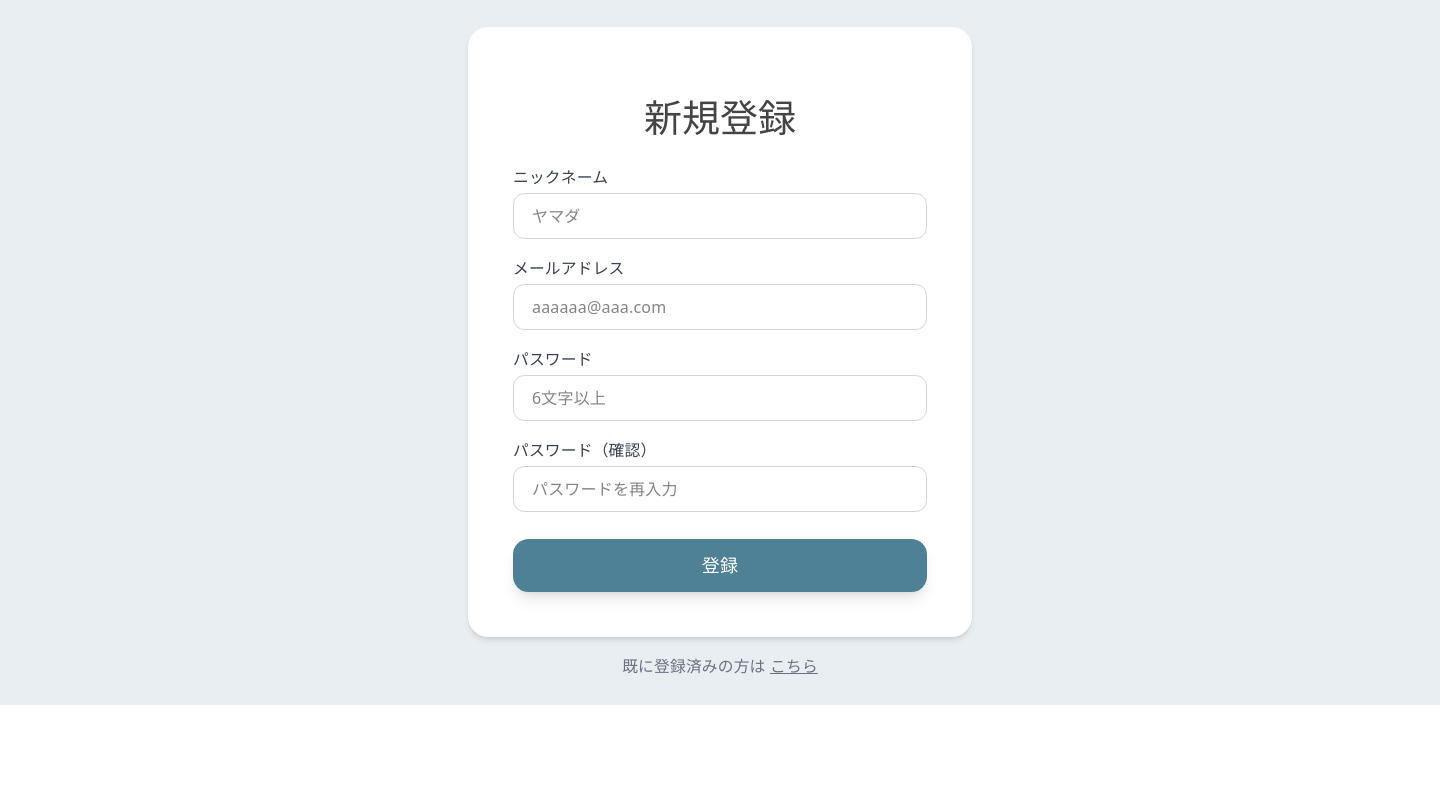
it: Register › パスワードが一致しない場合エラーメッセージが表示される
The width and height of the screenshot is (1440, 810).
Type "テスト太郎" into the field with placeholder "ヤマダ" at (720, 216), box [513, 193, 927, 239]
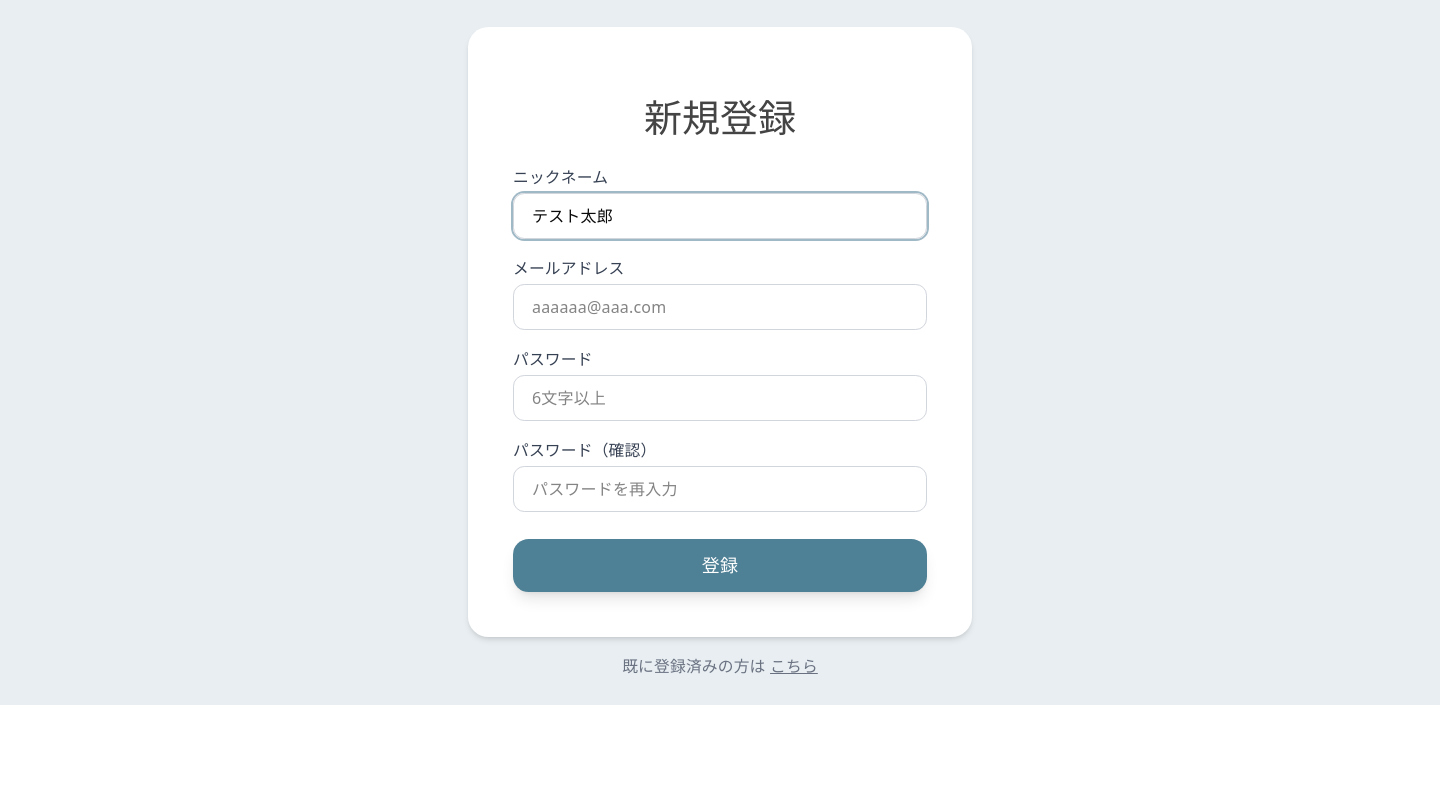
Type "test@example.com" into the field with placeholder "aaaaaa@aaa.com" at (720, 307), box [513, 284, 927, 330]
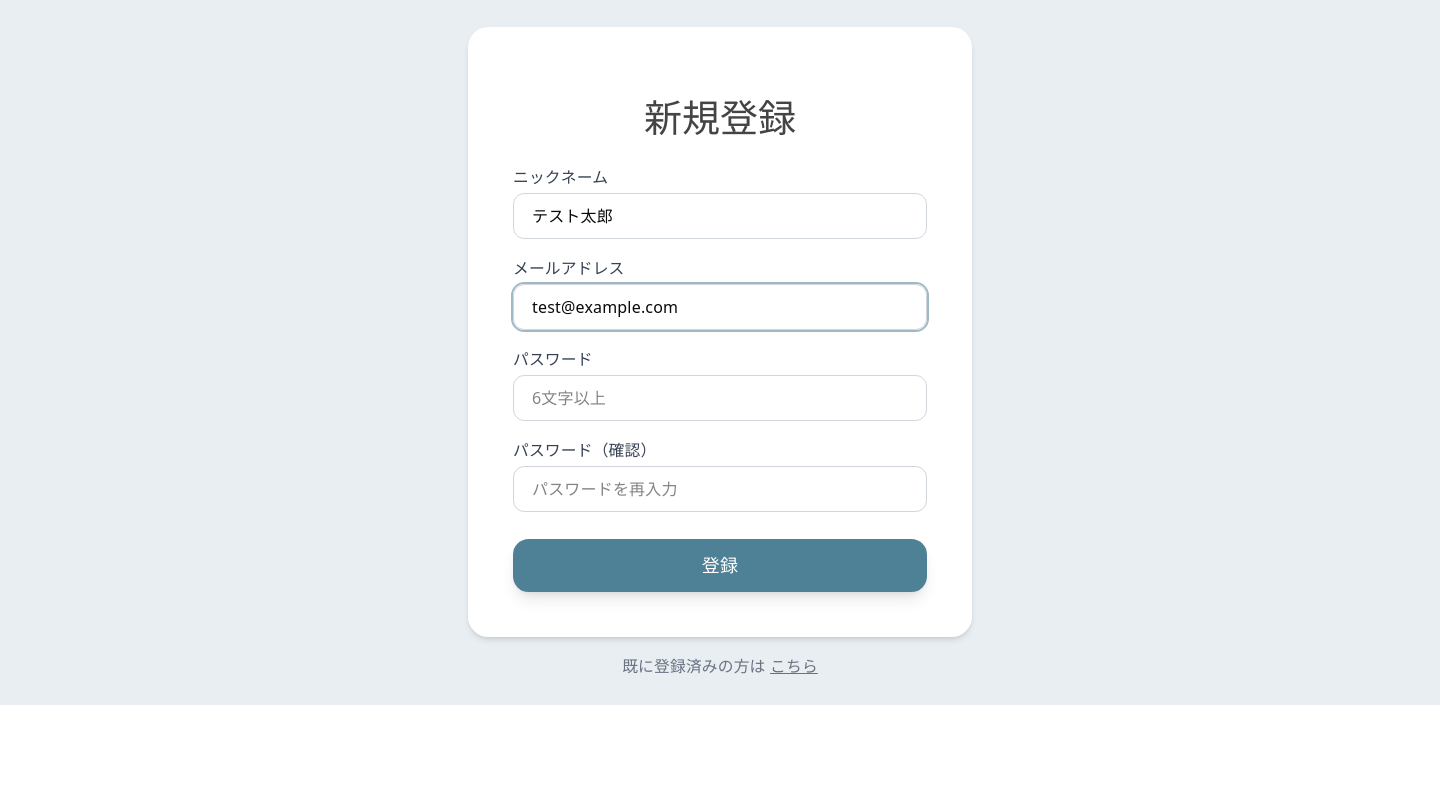
Type "abcdef" into the password field with placeholder "6文字以上" at (720, 398), box [513, 375, 927, 421]
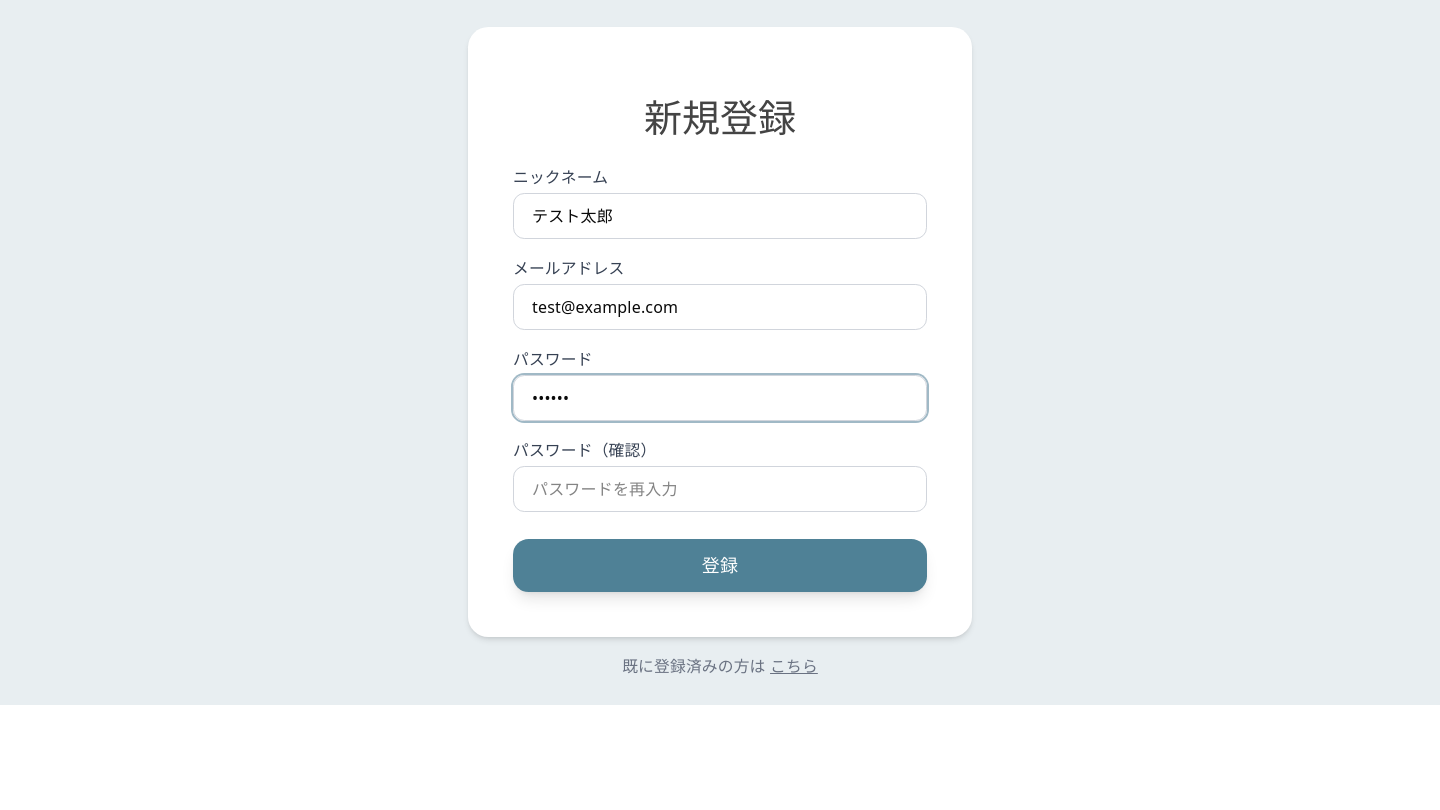
Type "abcdeg" into the password field with placeholder "パスワードを再入力" at (720, 489), box [513, 466, 927, 512]
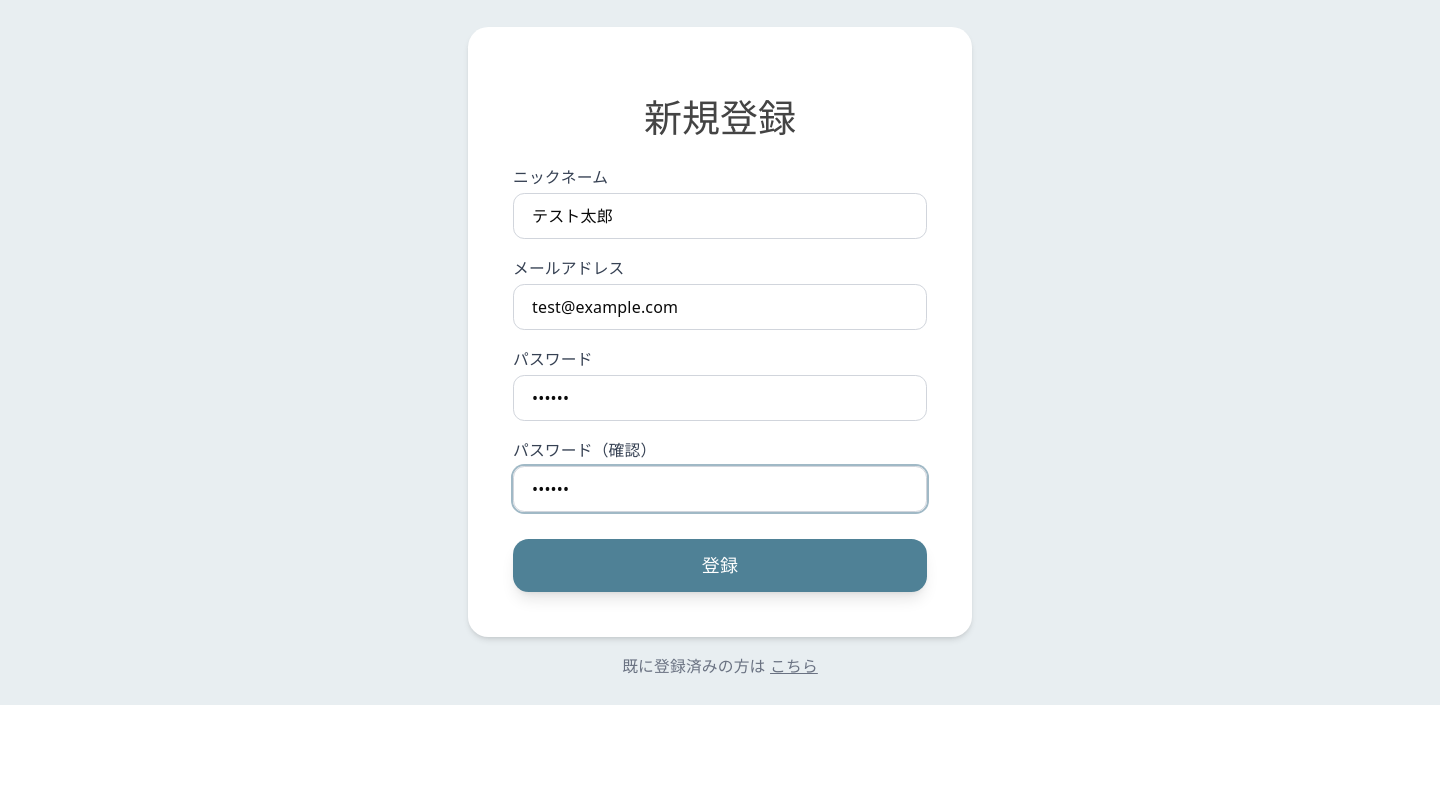
Click the button "登録" at (720, 566), box [513, 539, 927, 592]
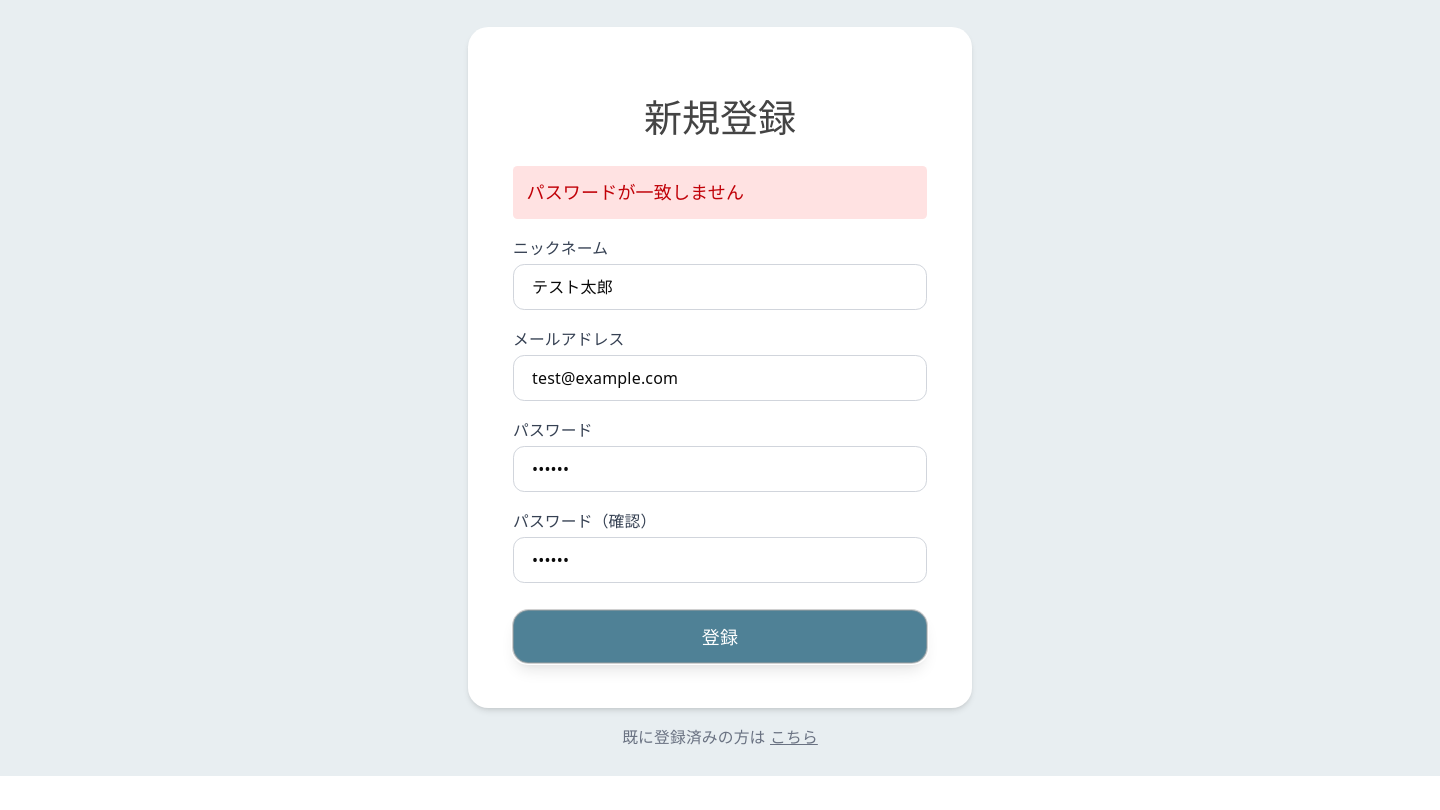
Now the text "パスワードが一致しません" is shown, box [513, 166, 927, 219]
